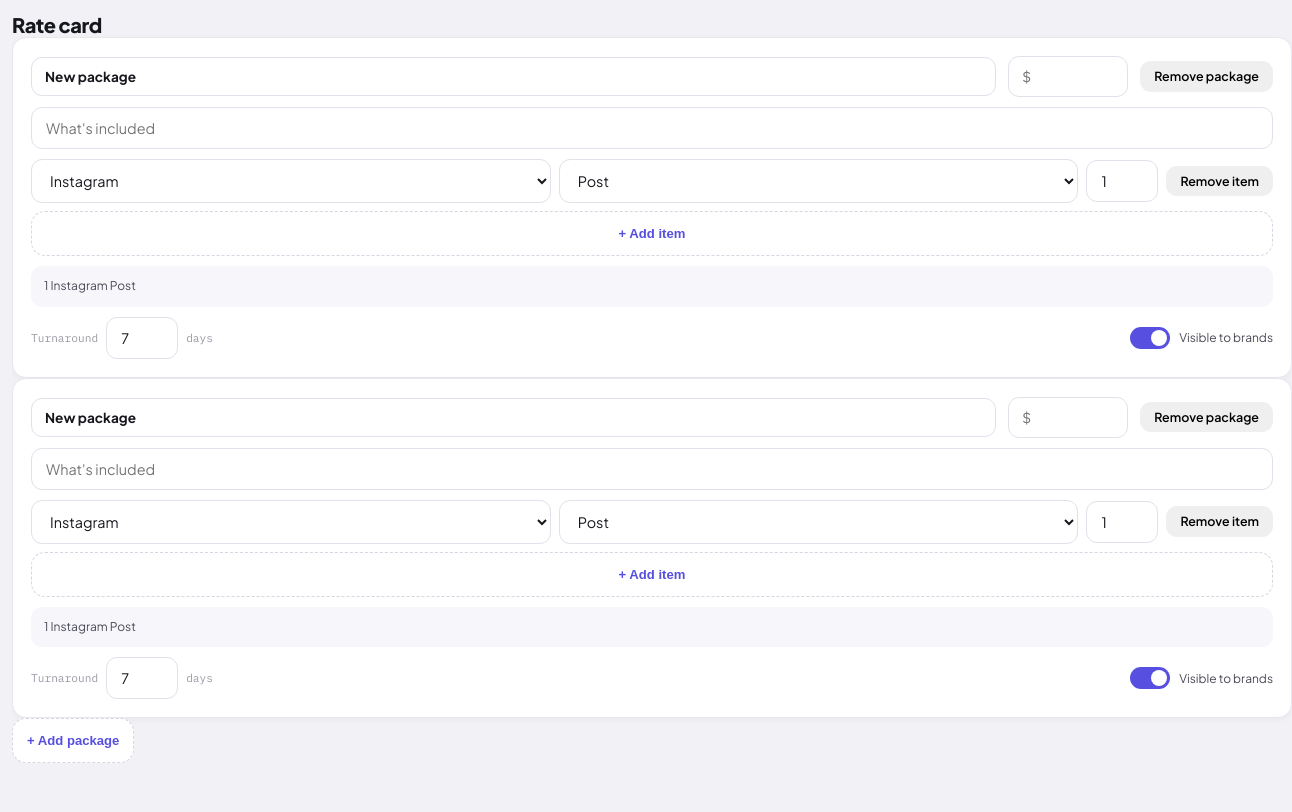
removes a package
Expected: the number of elements with test id "rate-package" is 2, [12,37,1291,378]; [12,378,1291,718]
Click the 1st button "Remove package" at coordinates (1207, 77), box [1140,61,1273,92]
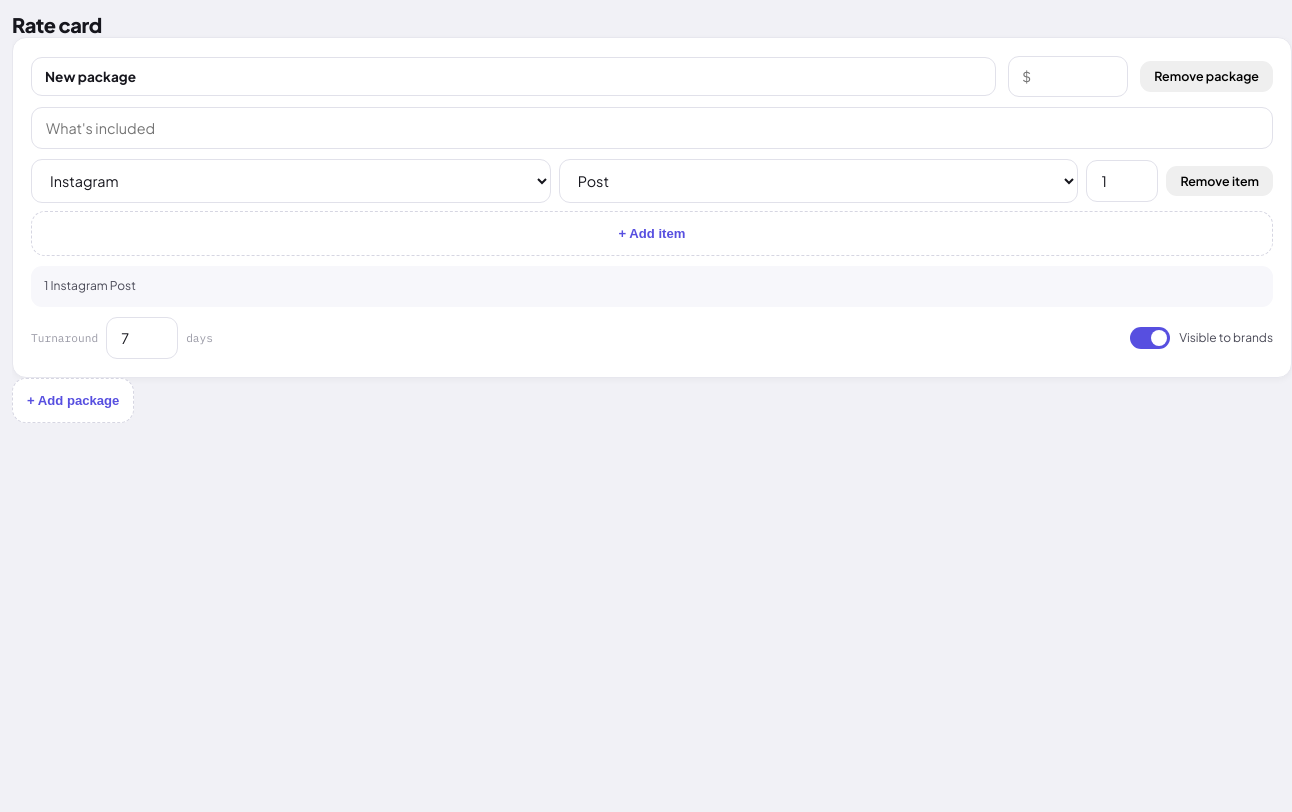
Result: the number of elements with test id "rate-package" is 1 at [12,37,1291,378]
